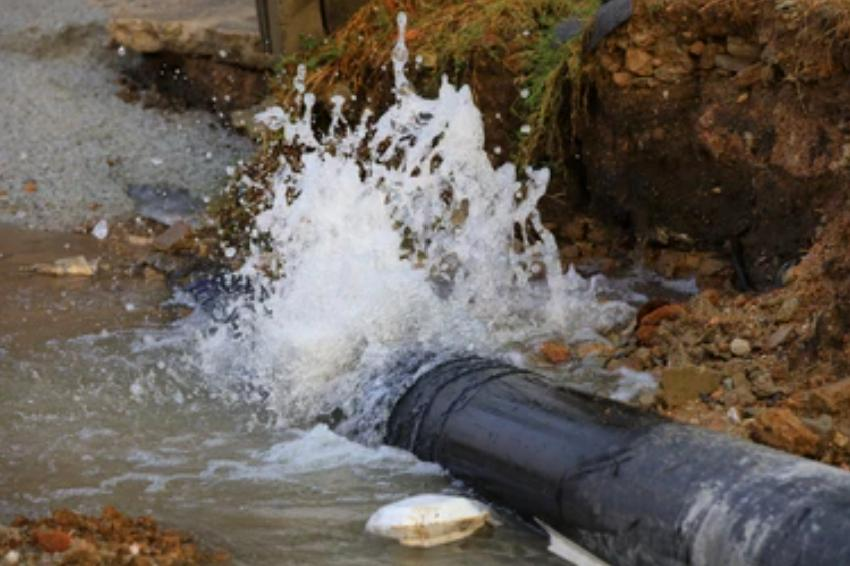pipe burst: (177, 79, 594, 420)
water accumulation: (0, 220, 572, 566)
